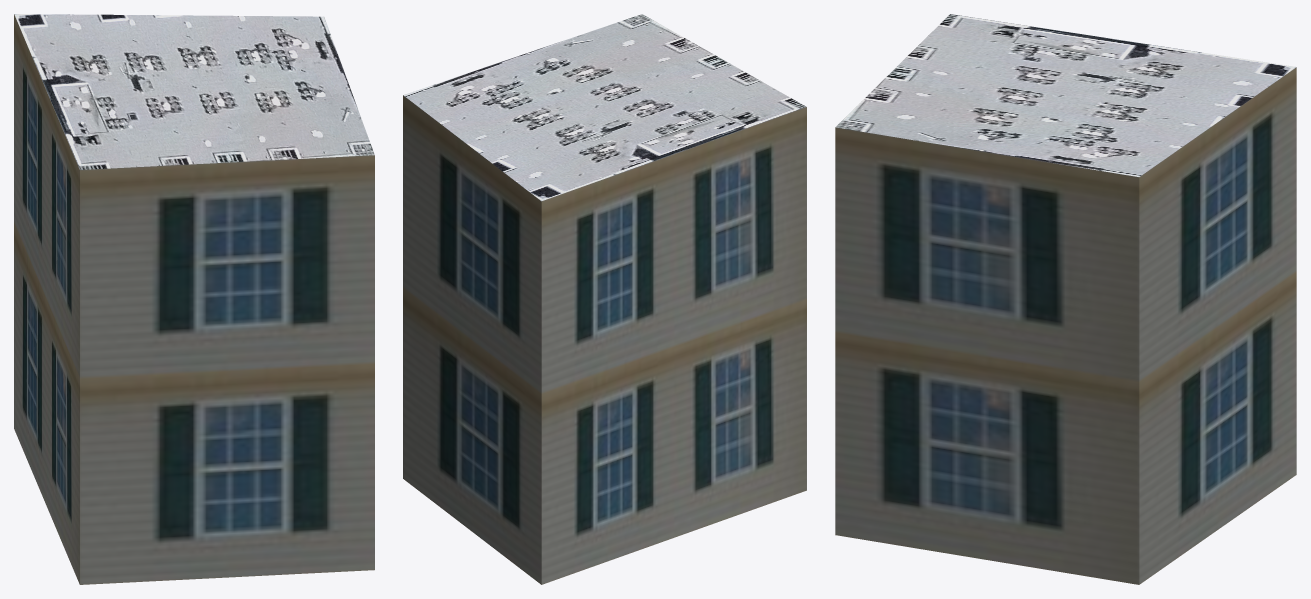
Rendered from ResTex__877.fbx.
3 renders of one model, left to right at view 1: azimuth 30°, elevation 25°; view 2: azimuth 150°, elevation 25°; view 3: azimuth 270°, elevation 25°, orthographic. The views are drawn at different scales.
Parts seen in each view (by area): view 1: CityEngineMaterial_7_m, CityEngineMaterial_8_m; view 2: CityEngineMaterial_7_m, CityEngineMaterial_8_m; view 3: CityEngineMaterial_7_m, CityEngineMaterial_8_m.
Boxes of the visible parts, x1,y1,x2,y2 form: CityEngineMaterial_7_m: [14, 14, 374, 584]; CityEngineMaterial_8_m: [14, 14, 374, 169]; CityEngineMaterial_7_m: [403, 95, 806, 584]; CityEngineMaterial_8_m: [403, 14, 806, 201]; CityEngineMaterial_7_m: [835, 67, 1296, 584]; CityEngineMaterial_8_m: [835, 14, 1296, 176].
Bounding box in the file's own units: 5.15 × 6 × 6.16.
2 materials, 2 textured.
